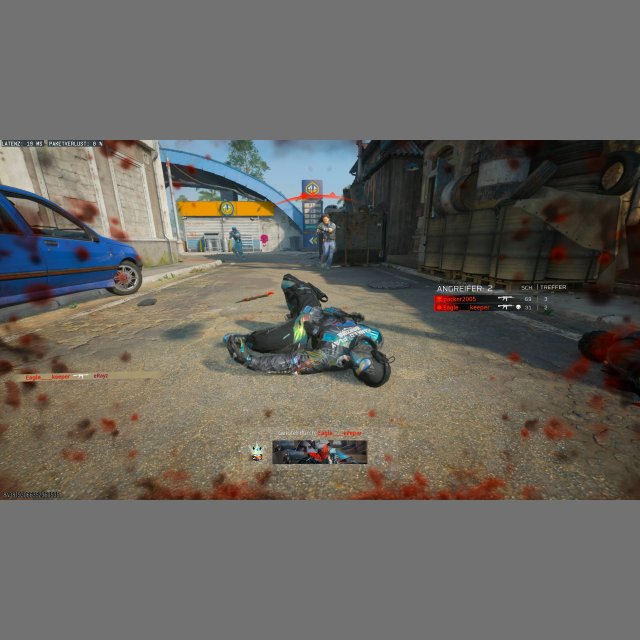head: (353, 349, 390, 388), (364, 327, 383, 348), (321, 215, 330, 224), (232, 226, 237, 232)
player: (314, 215, 338, 269), (228, 226, 245, 259)
